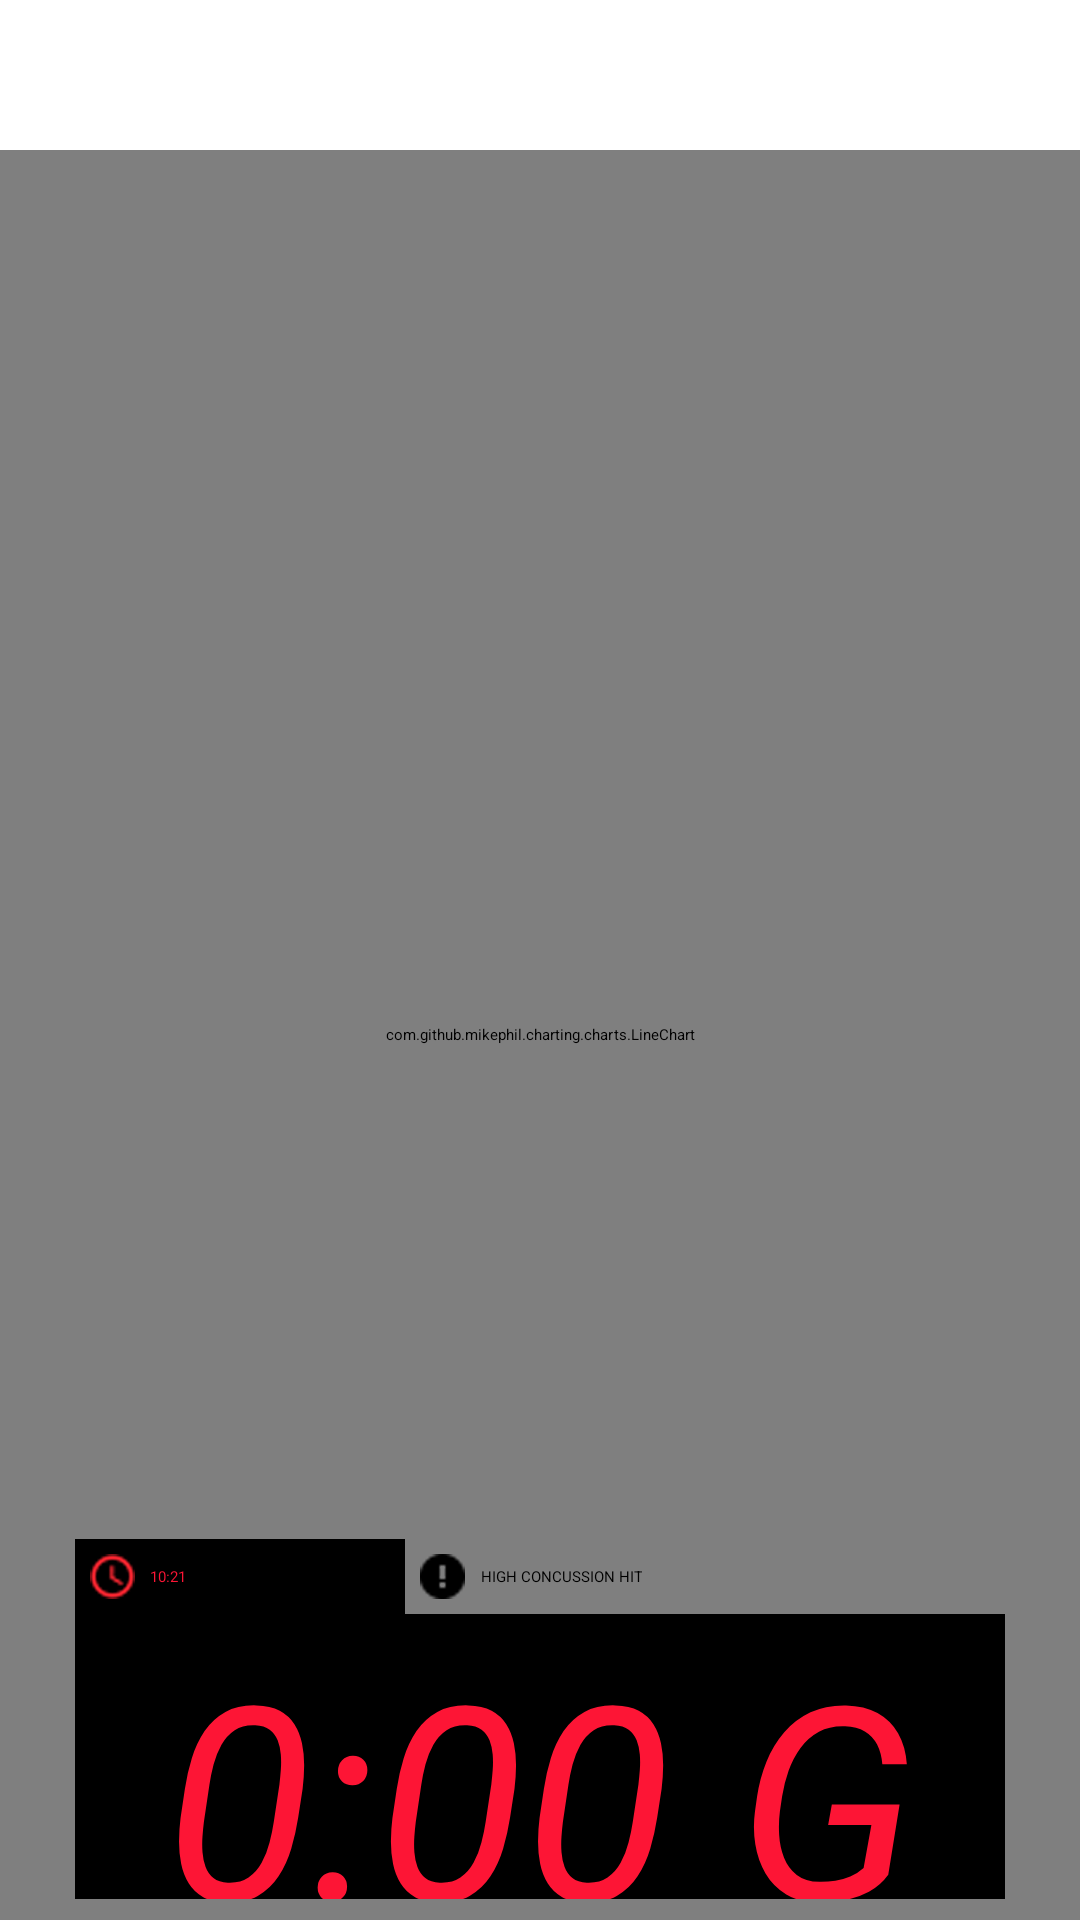

Screen size 1080×1920. Icon name, then its box in pixels as (x1, y1, x2, y2):
error image content description: (420, 1554, 465, 1599)
schedule: (90, 1554, 135, 1599)
